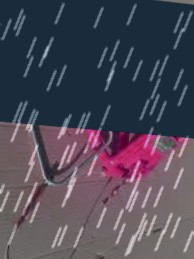chock: (68, 0, 194, 189)
